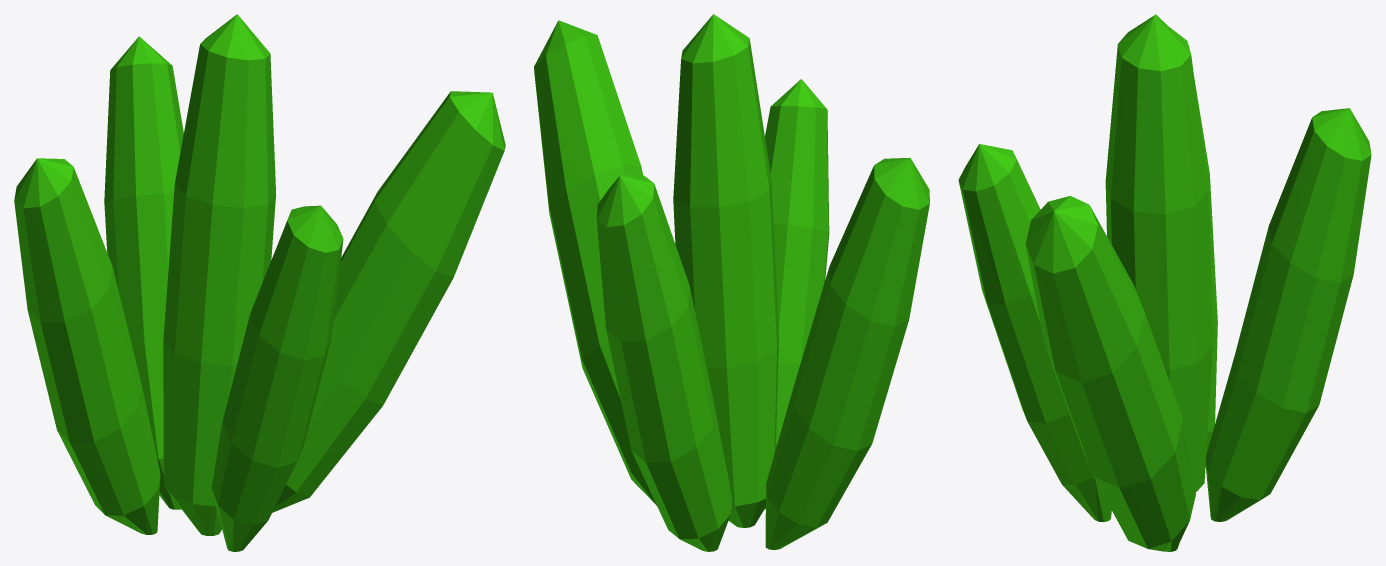
Rendered from Sappling.obj.
The picture shows the model from 3 angles, left to right: view 1: azimuth 30°, elevation 25°; view 2: azimuth 150°, elevation 25°; view 3: azimuth 270°, elevation 25°; orthographic projection. The views are drawn at different scales.
Parts seen in each view (by area): view 1: Desert_plant_014.003; view 2: Desert_plant_014.003; view 3: Desert_plant_014.003.
Boxes of the visible parts, <box> form: Desert_plant_014.003: <box>14,14,505,551</box>; Desert_plant_014.003: <box>534,14,929,551</box>; Desert_plant_014.003: <box>958,14,1371,551</box>.
Size of the model in its own units: 1.73 by 1.93 by 1.4.
